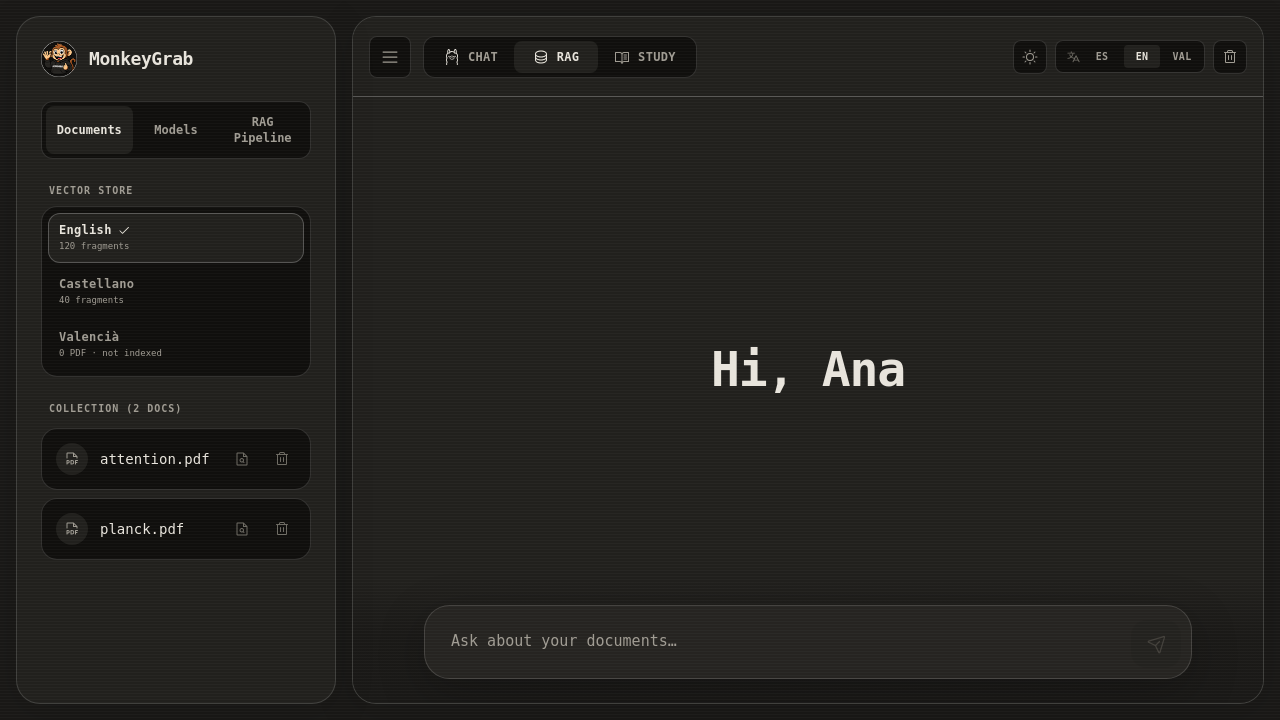
Test: pipeline settings toggles › starts from what the backend reports
expect the text box with placeholder "Ask about your documents…" is shown: met, box [435,616,1119,668]
Click the button "RAG Pipeline".
click(263, 130)  # box [219,106,306,154]
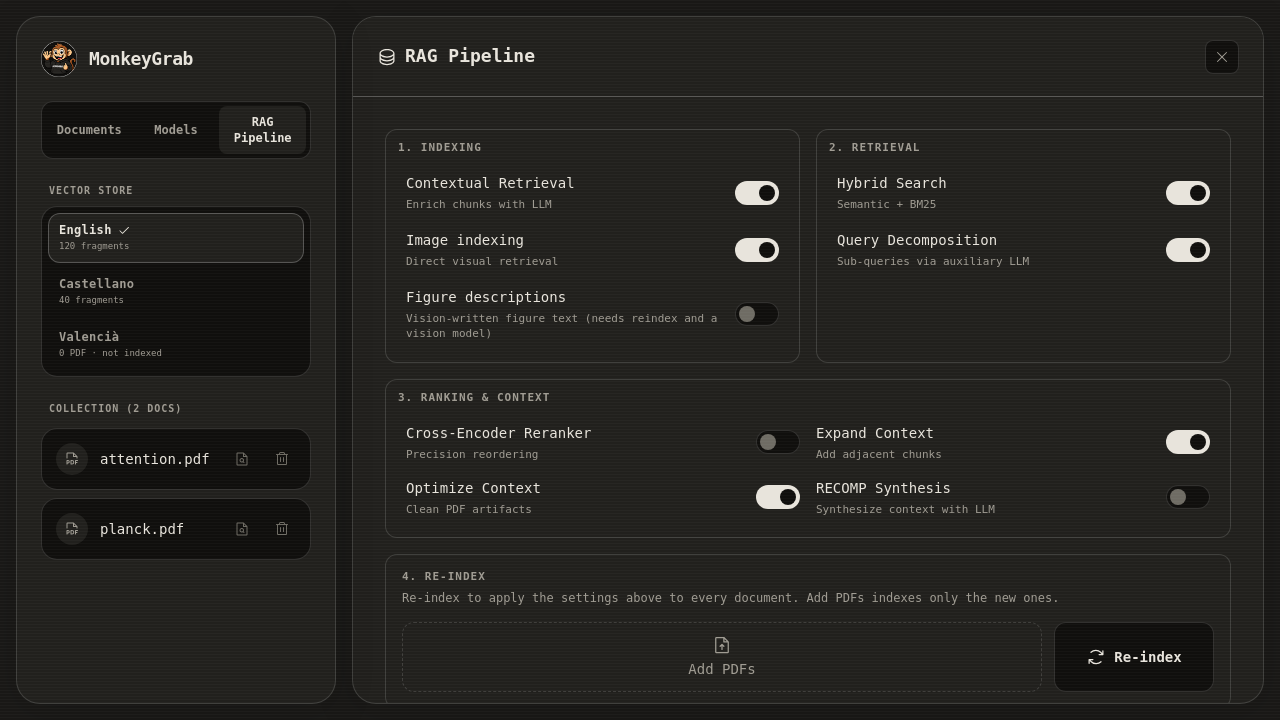
expect the dialog is shown: met
